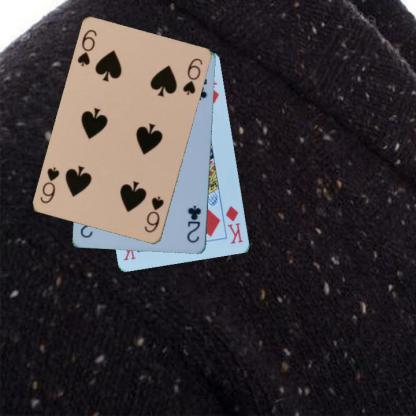2c: (184, 203, 203, 244)
6s: (142, 194, 165, 235), (75, 27, 98, 68)
Kd: (223, 202, 245, 245)
